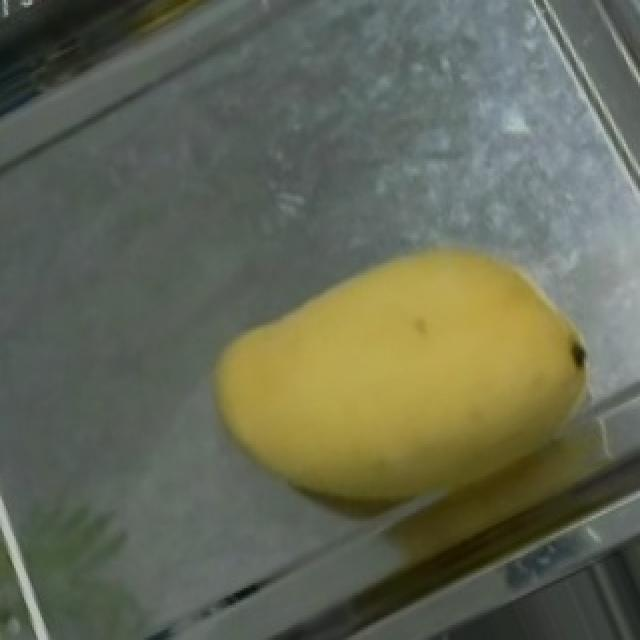fruit: (142, 176, 640, 615)
